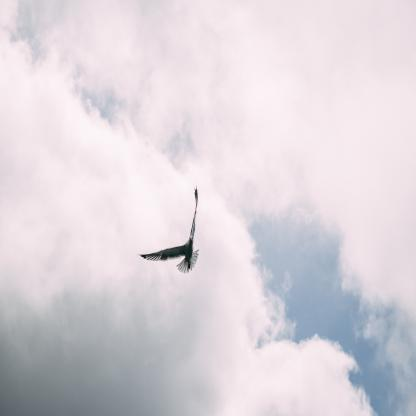bird: (139, 186, 199, 274)
